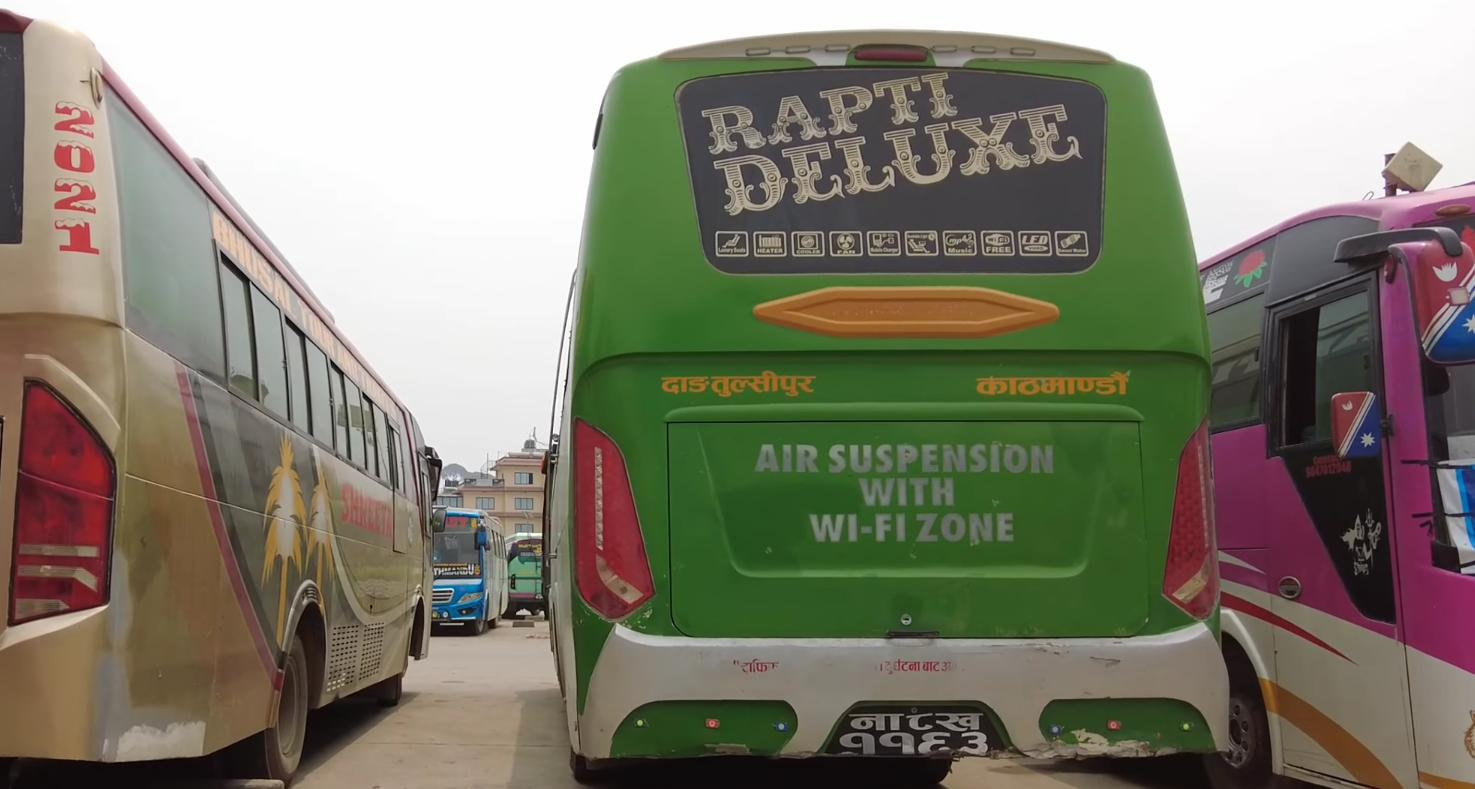bus: (530, 19, 1244, 789)
